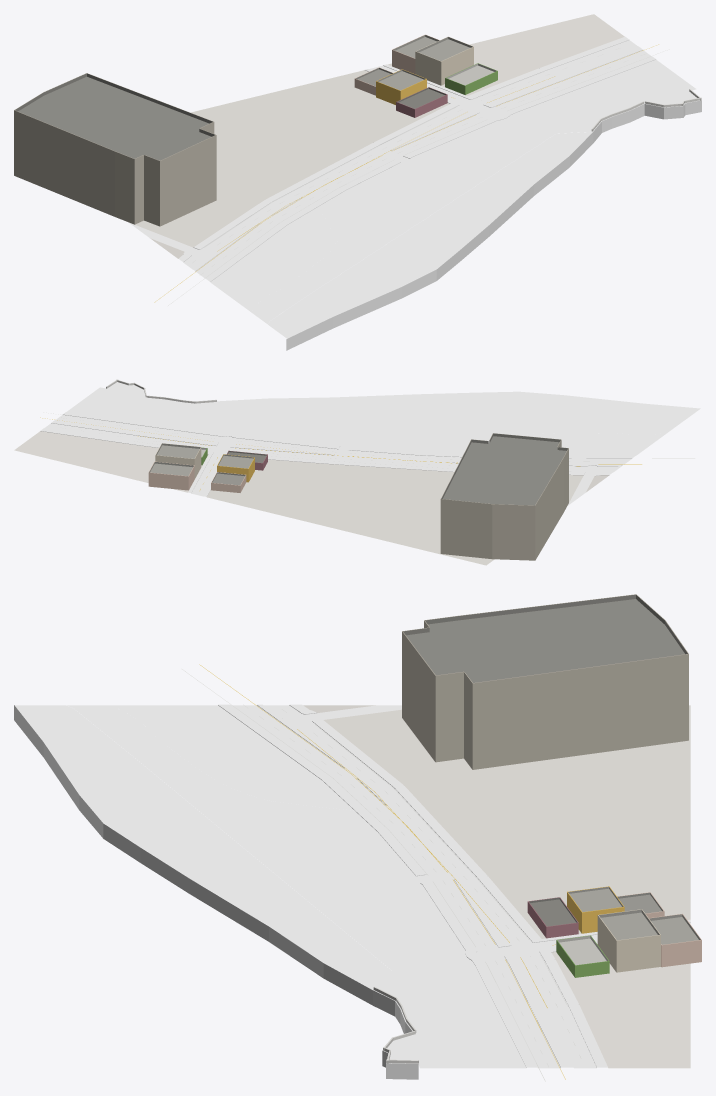
3 views of the same model, one above another, from view 1: azimuth 30°, elevation 25°; view 2: azimuth 150°, elevation 25°; view 3: azimuth 270°, elevation 25° (orthographic). The views are drawn at different scales.
Parts seen in each view (by area): view 1: ground, walls, concrete, sand, roofs, grass, asphalt, sidewalk, coast, markings; view 2: ground, concrete, sand, walls, roofs, asphalt, grass, sidewalk, markings, stone; view 3: ground, walls, concrete, sand, roofs, grass, asphalt, sidewalk, coast, markings.
Part boxes in pixels (x1=…): ground: x1=135, y1=14, x2=624, y2=258; walls: x1=14, y1=47, x2=497, y2=226; concrete: x1=247, y1=59, x2=701, y2=311; sand: x1=268, y1=132, x2=592, y2=338; roofs: x1=14, y1=34, x2=497, y2=160; grass: x1=210, y1=130, x2=555, y2=323; asphalt: x1=128, y1=40, x2=650, y2=278; sidewalk: x1=178, y1=36, x2=655, y2=281; coast: x1=286, y1=100, x2=701, y2=350; markings: x1=154, y1=44, x2=669, y2=305; ground: x1=14, y1=431, x2=608, y2=565; concrete: x1=67, y1=382, x2=669, y2=453; sand: x1=217, y1=391, x2=700, y2=421; walls: x1=148, y1=440, x2=568, y2=560; roofs: x1=148, y1=433, x2=568, y2=505; asphalt: x1=44, y1=415, x2=631, y2=505; grass: x1=235, y1=412, x2=684, y2=455; sidewalk: x1=40, y1=412, x2=635, y2=496; markings: x1=40, y1=412, x2=694, y2=489; stone: x1=106, y1=379, x2=216, y2=403; ground: x1=303, y1=705, x2=690, y2=1068; walls: x1=402, y1=621, x2=701, y2=977; concrete: x1=112, y1=705, x2=526, y2=1068; sand: x1=15, y1=705, x2=391, y2=989; roofs: x1=402, y1=594, x2=701, y2=965; grass: x1=67, y1=705, x2=406, y2=970; asphalt: x1=232, y1=705, x2=690, y2=1068; sidewalk: x1=218, y1=704, x2=690, y2=1067; coast: x1=14, y1=705, x2=418, y2=1079; markings: x1=182, y1=664, x2=581, y2=1081.
Size of what is drawn, in the model's own units: 288 by 32.8 by 200.
